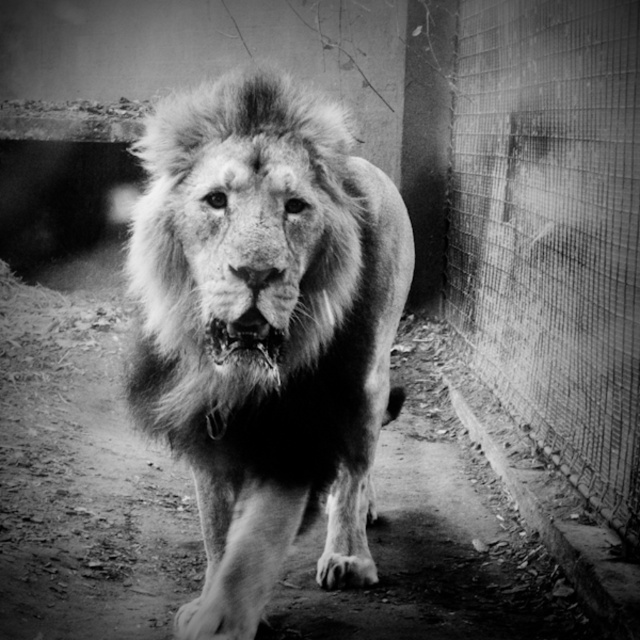Lion: (119, 54, 418, 639)
